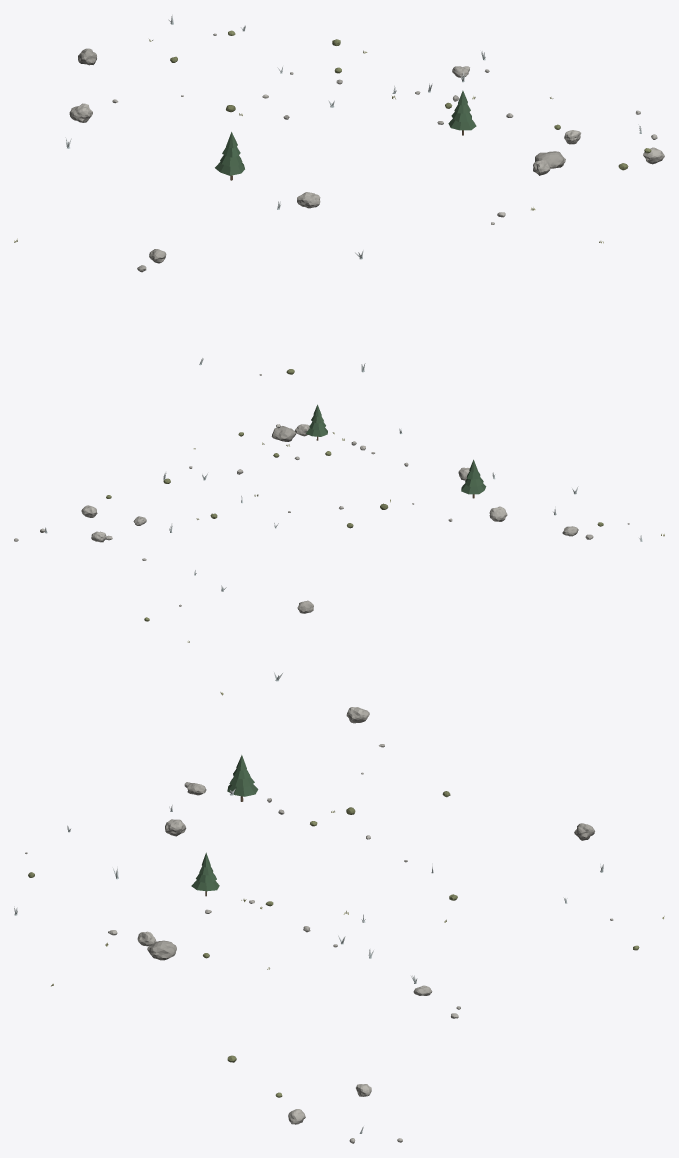
Rendered from coast_land_scatter_c11_25.glb.
3 renders of one model, top to bottom at view 1: azimuth 30°, elevation 25°; view 2: azimuth 150°, elevation 25°; view 3: azimuth 270°, elevation 25°, orthographic. The views are drawn at different scales.
Visible parts, largest first — view 1: coast_land_scatter_c11_25; view 2: coast_land_scatter_c11_25; view 3: coast_land_scatter_c11_25.
Part boxes in pixels (left/top/right/bottom): coast_land_scatter_c11_25: left=14, top=14, right=664, bottom=375; coast_land_scatter_c11_25: left=14, top=404, right=664, bottom=642; coast_land_scatter_c11_25: left=14, top=672, right=664, bottom=1143.
Size of the model in its own units: 188 by 45.38 by 152.
